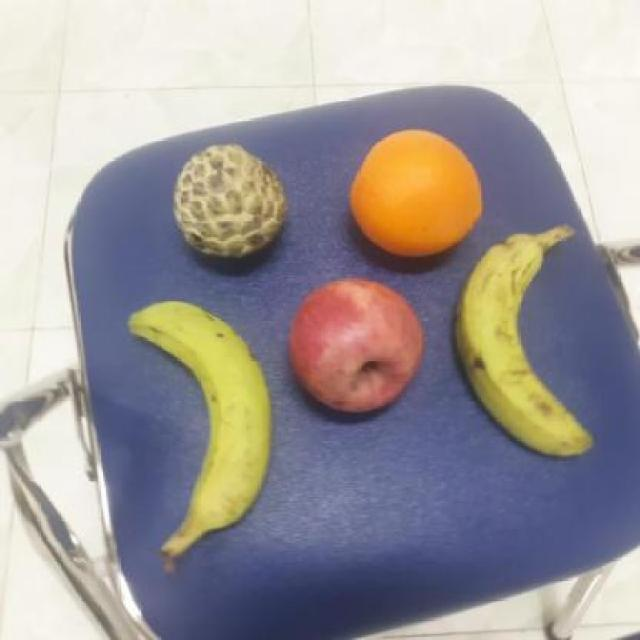apple: (283, 277, 428, 420)
banana: (121, 292, 277, 533), (449, 229, 597, 463)
oren: (343, 126, 485, 260)
sugar apple: (172, 140, 289, 258)
